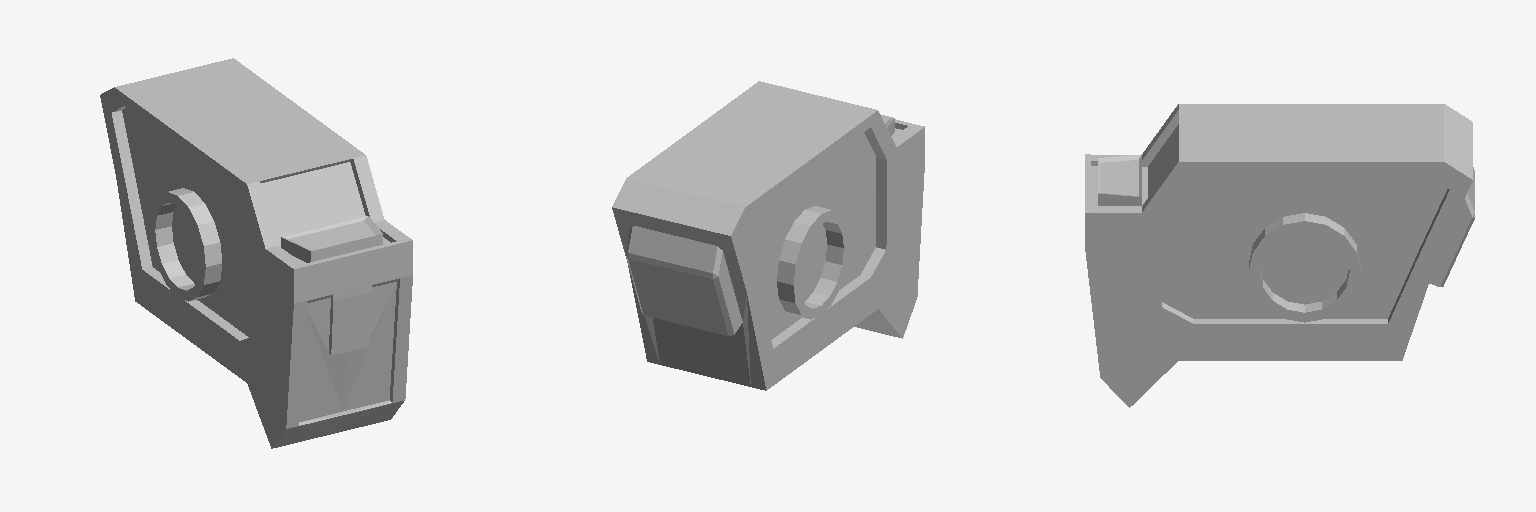
File: NineballHips.obj
The picture shows the model from 3 angles: view 1: azimuth 30°, elevation 25°; view 2: azimuth 150°, elevation 25°; view 3: azimuth 270°, elevation 25°; orthographic projection.
Visible parts, largest first — view 1: Hips; view 2: Hips; view 3: Hips.
Part boxes in pixels (x1,y1,x2,y2): Hips: (100,58,412,448); Hips: (612,81,924,390); Hips: (1085,104,1474,407).
Size of the model in its own units: 0.6918 by 1.24 by 1.78.